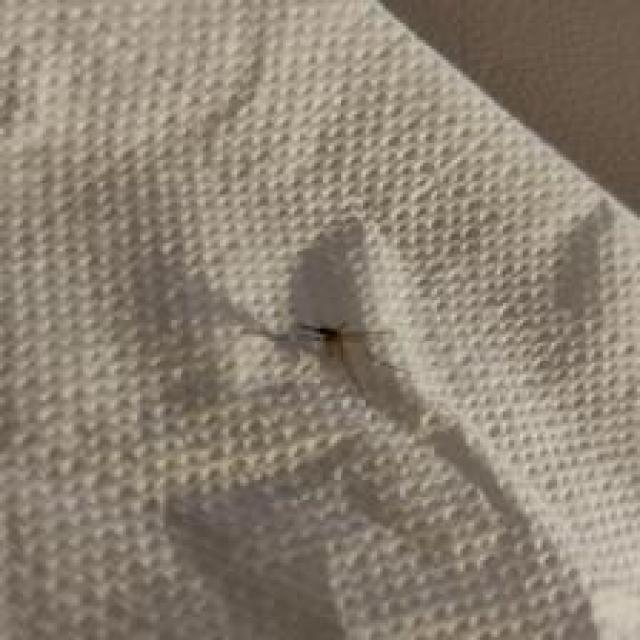Culex: (146, 216, 611, 638)
